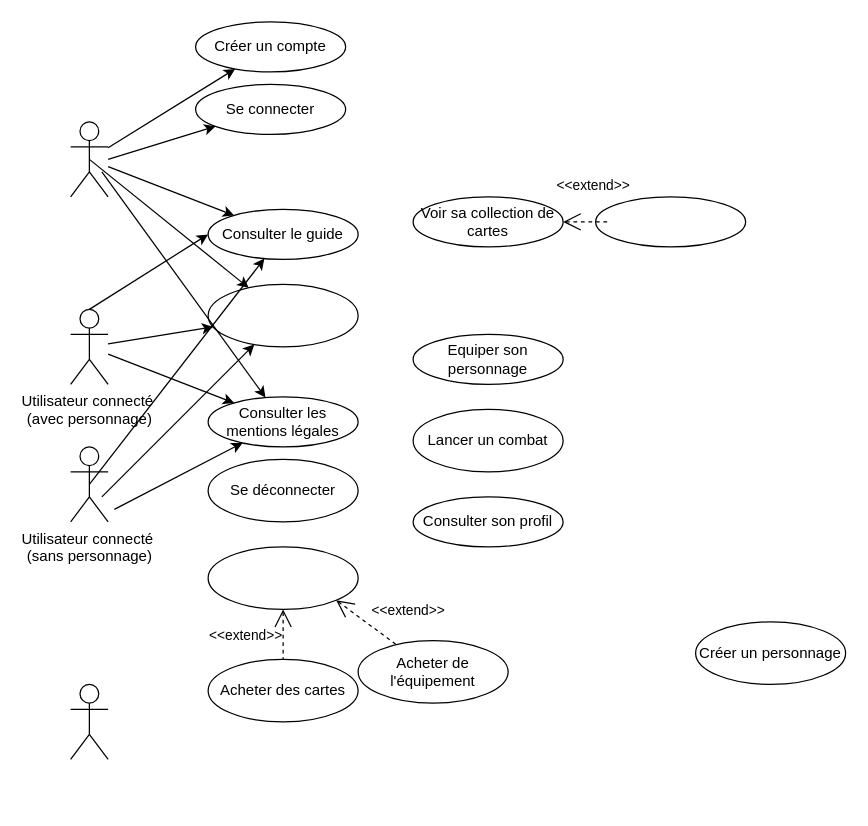
This 868x826 diagram has some shape labels left out. Each missing label, with the centre of its shape:
"Admin" goes at pixel 88 721.
"Consulter la boutique" goes at pixel 282 577.
"Consulter les actualités du site" goes at pixel 282 315.
"Modifier son deck" goes at pixel 670 221.
"Visiteur" goes at pixel 88 159.
